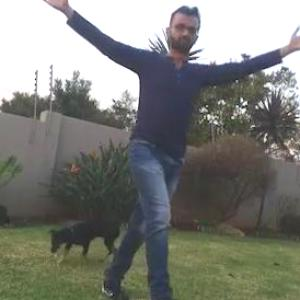takeoff: (47, 0, 298, 285)
